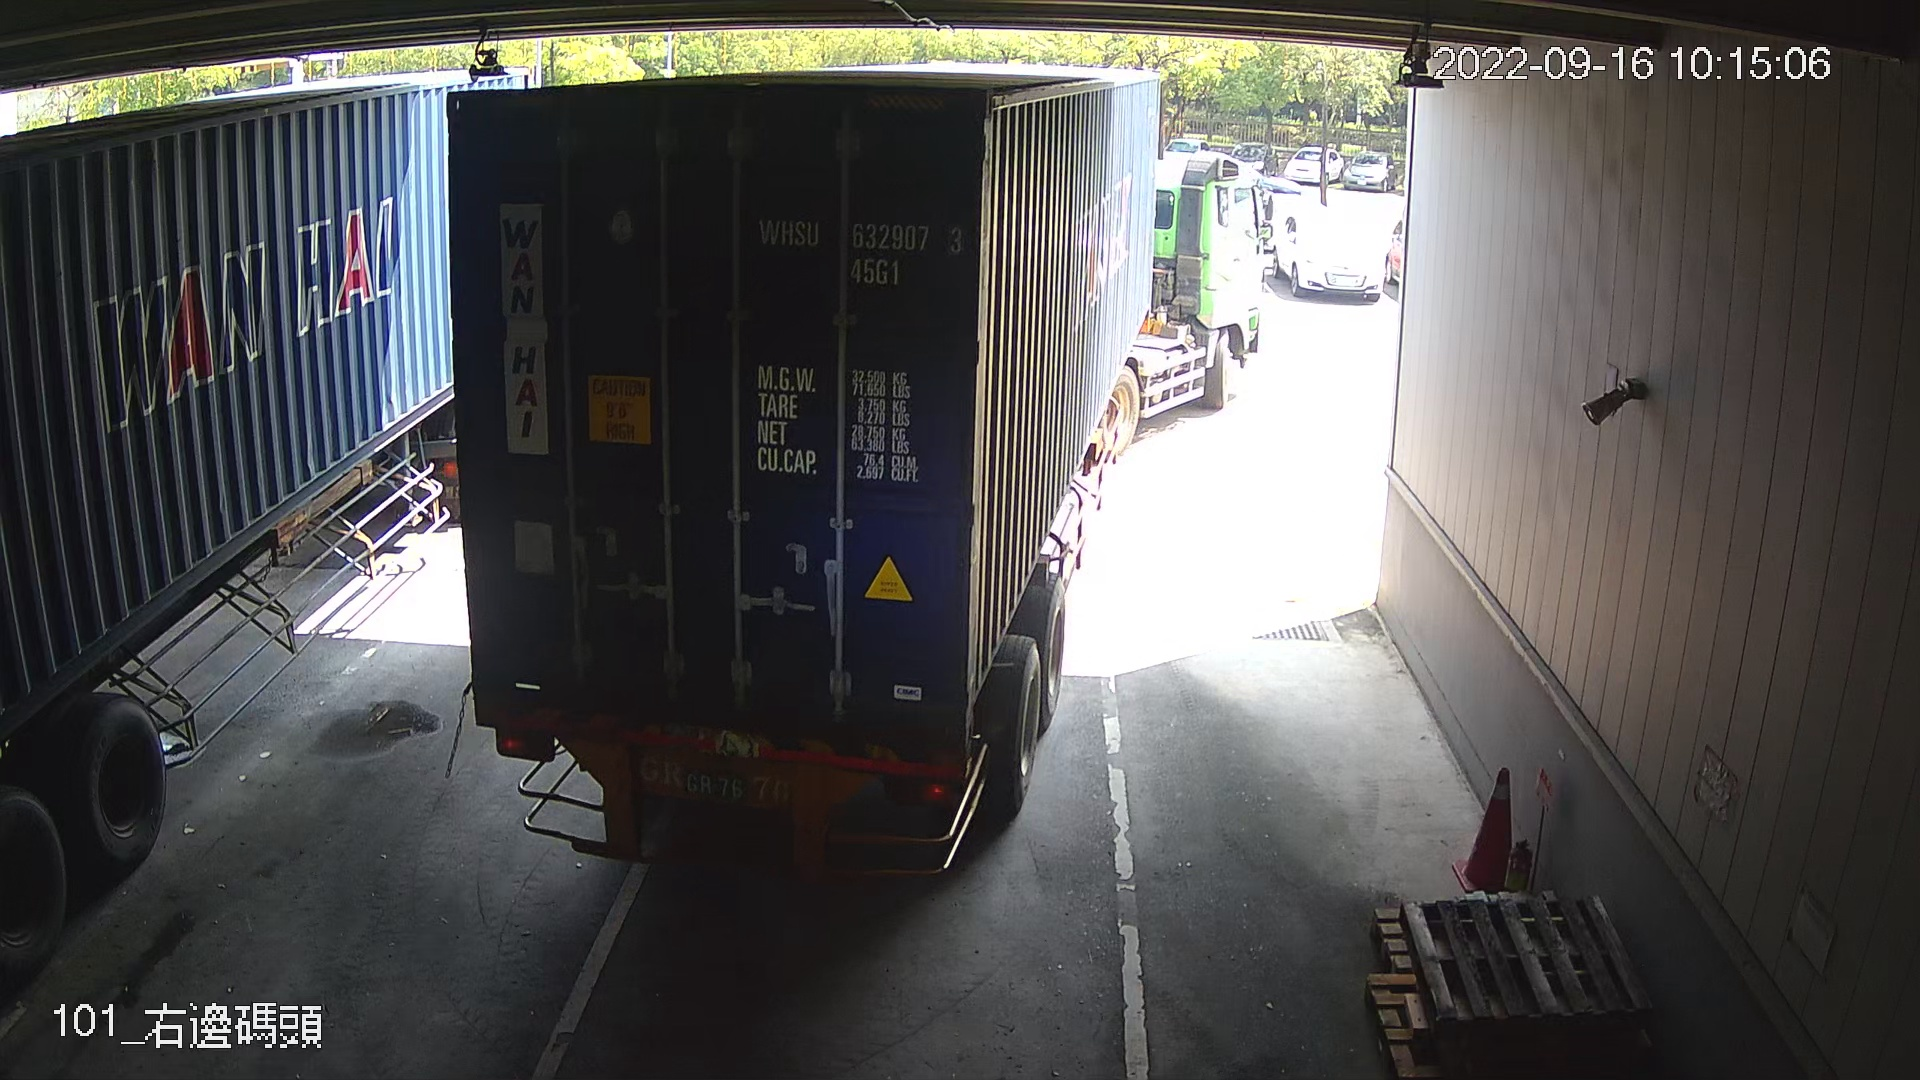container: (753, 208, 969, 287)
